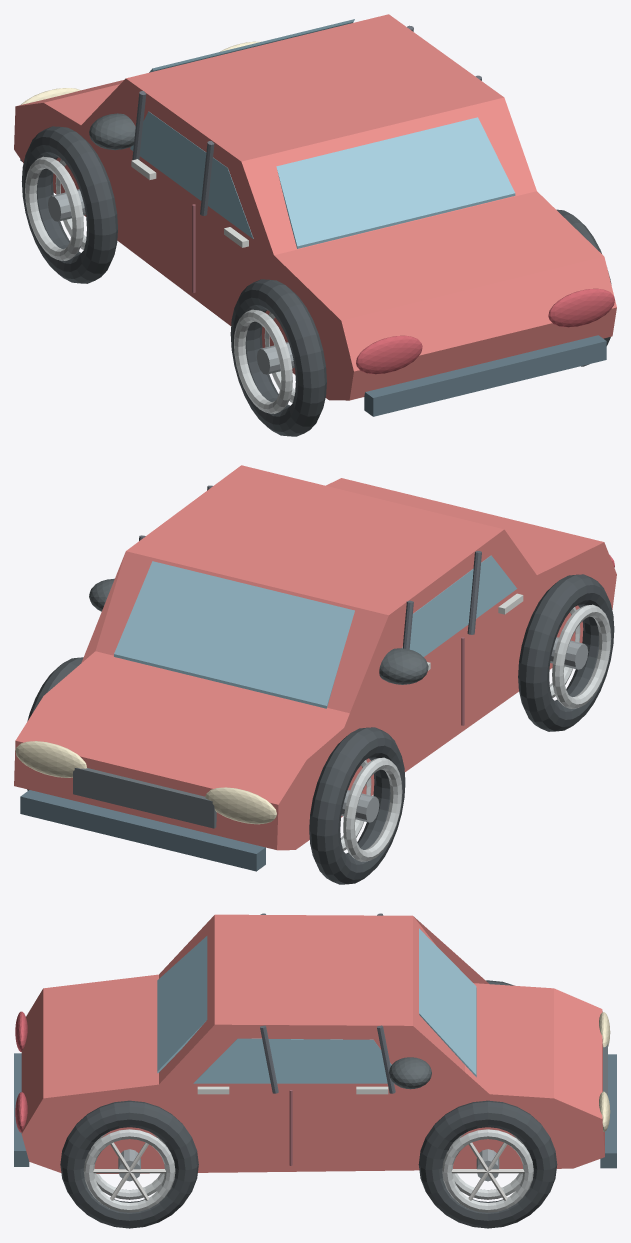
File: car.glb
The picture shows the model from 3 angles, top to bottom: view 1: azimuth 30°, elevation 25°; view 2: azimuth 150°, elevation 25°; view 3: azimuth 270°, elevation 25°; orthographic projection. The views are drawn at different scales.
Parts seen in each view (by area): view 1: Car_SculptedBody_001, Car_RearGlass_003, Wheel_Tire_021, Wheel_Tire_011, Car_RearBumper_064, Car_SideWindow_004, Wheel_Rim_022, Wheel_Rim_012, Car_Taillamp_032, Car_Taillamp_061, Car_Mirror_010, Car_Windshield_002 (+3 smaller); view 2: Car_SculptedBody_001, Car_Windshield_002, Wheel_Tire_011, Wheel_Tire_021, Car_Bumper_063, Car_SideWindow_004, Car_Grille_062, Wheel_Rim_012, Wheel_Rim_022, Car_Headlamp_031, Car_Headlamp_060, Car_Mirror_010 (+4 smaller); view 3: Car_SculptedBody_001, Wheel_Tire_040, Wheel_Tire_050, Car_SideWindow_033, Car_Windshield_002, Car_RearGlass_003, Wheel_Rim_052, Wheel_Rim_042, Car_Bumper_063, Car_Mirror_039, Car_RearBumper_064, Wheel_Rim_051 (+3 smaller).
Part boxes in pixels (x1=…): Car_SculptedBody_001: x1=14, y1=14, x2=616, y2=400; Car_RearGlass_003: x1=276, y1=117, x2=515, y2=248; Wheel_Tire_021: x1=230, y1=279, x2=326, y2=436; Wheel_Tire_011: x1=21, y1=126, x2=117, y2=283; Car_RearBumper_064: x1=364, y1=335, x2=606, y2=416; Car_SideWindow_004: x1=130, y1=111, x2=253, y2=238; Wheel_Rim_022: x1=234, y1=309, x2=292, y2=413; Wheel_Rim_012: x1=25, y1=156, x2=83, y2=260; Car_Taillamp_032: x1=356, y1=335, x2=422, y2=374; Car_Taillamp_061: x1=548, y1=288, x2=614, y2=327; Car_Mirror_010: x1=89, y1=113, x2=135, y2=150; Car_Windshield_002: x1=149, y1=19, x2=354, y2=72; Car_SculptedBody_001: x1=14, y1=465, x2=616, y2=850; Car_Windshield_002: x1=114, y1=561, x2=354, y2=708; Wheel_Tire_011: x1=309, y1=727, x2=405, y2=884; Wheel_Tire_021: x1=518, y1=574, x2=614, y2=731; Car_Bumper_063: x1=20, y1=790, x2=265, y2=871; Car_SideWindow_004: x1=402, y1=555, x2=517, y2=656; Car_Grille_062: x1=73, y1=768, x2=216, y2=828; Wheel_Rim_012: x1=343, y1=757, x2=402, y2=861; Wheel_Rim_022: x1=552, y1=604, x2=611, y2=708; Car_Headlamp_031: x1=205, y1=787, x2=276, y2=824; Car_Headlamp_060: x1=15, y1=741, x2=86, y2=777; Car_Mirror_010: x1=379, y1=648, x2=428, y2=684; Car_SculptedBody_001: x1=21, y1=914, x2=604, y2=1173; Wheel_Tire_040: x1=418, y1=1100, x2=557, y2=1228; Wheel_Tire_050: x1=60, y1=1100, x2=198, y2=1228; Car_SideWindow_033: x1=193, y1=1038, x2=391, y2=1083; Car_Windshield_002: x1=419, y1=928, x2=476, y2=1077; Car_RearGlass_003: x1=157, y1=936, x2=207, y2=1073; Wheel_Rim_052: x1=83, y1=1129, x2=175, y2=1212; Wheel_Rim_042: x1=442, y1=1129, x2=533, y2=1212; Car_Bumper_063: x1=600, y1=1054, x2=616, y2=1168; Car_Mirror_039: x1=389, y1=1057, x2=431, y2=1089; Car_RearBumper_064: x1=14, y1=1053, x2=29, y2=1166; Wheel_Rim_051: x1=91, y1=1132, x2=168, y2=1199.
Size of the model in its own units: 2.6 by 1.72 by 4.74.
